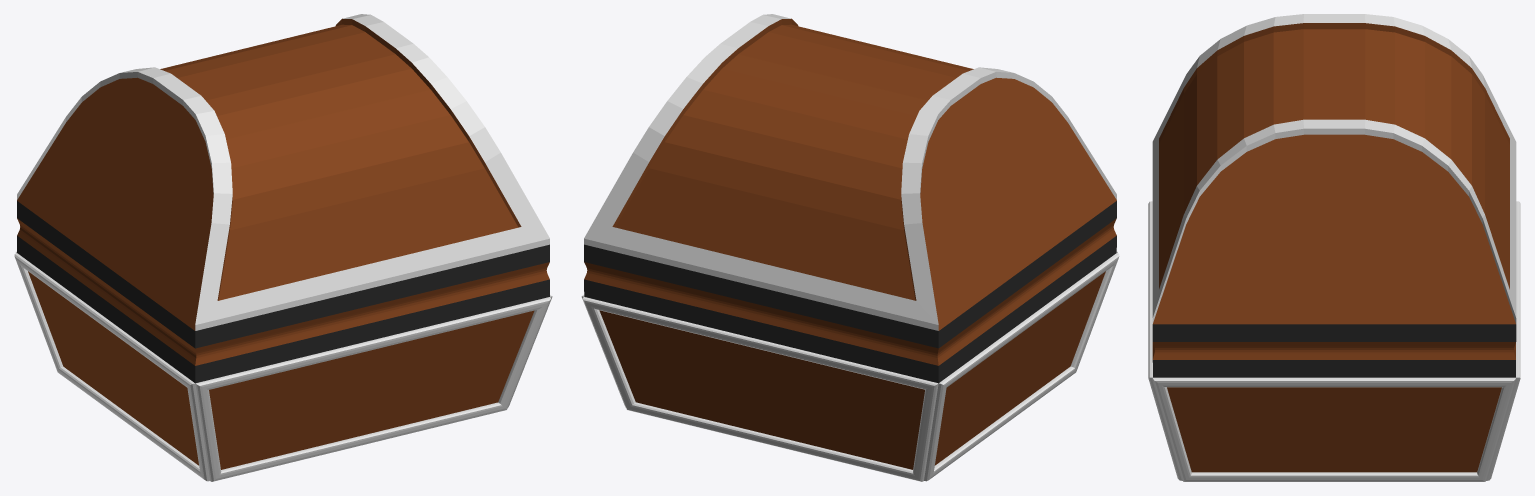
The model's file is Pirate chest.fbx.
3 renders of one model, left to right at view 1: azimuth 30°, elevation 25°; view 2: azimuth 150°, elevation 25°; view 3: azimuth 270°, elevation 25°, orthographic.
Parts seen in each view (by area): view 1: Cube; view 2: Cube; view 3: Cube.
Part boxes in pixels (x1=…): Cube: x1=14, y1=14, x2=552, y2=481; Cube: x1=581, y1=14, x2=1119, y2=481; Cube: x1=1148, y1=14, x2=1520, y2=481.
Size of the model in its own units: 81.95 by 71.29 by 71.59.
